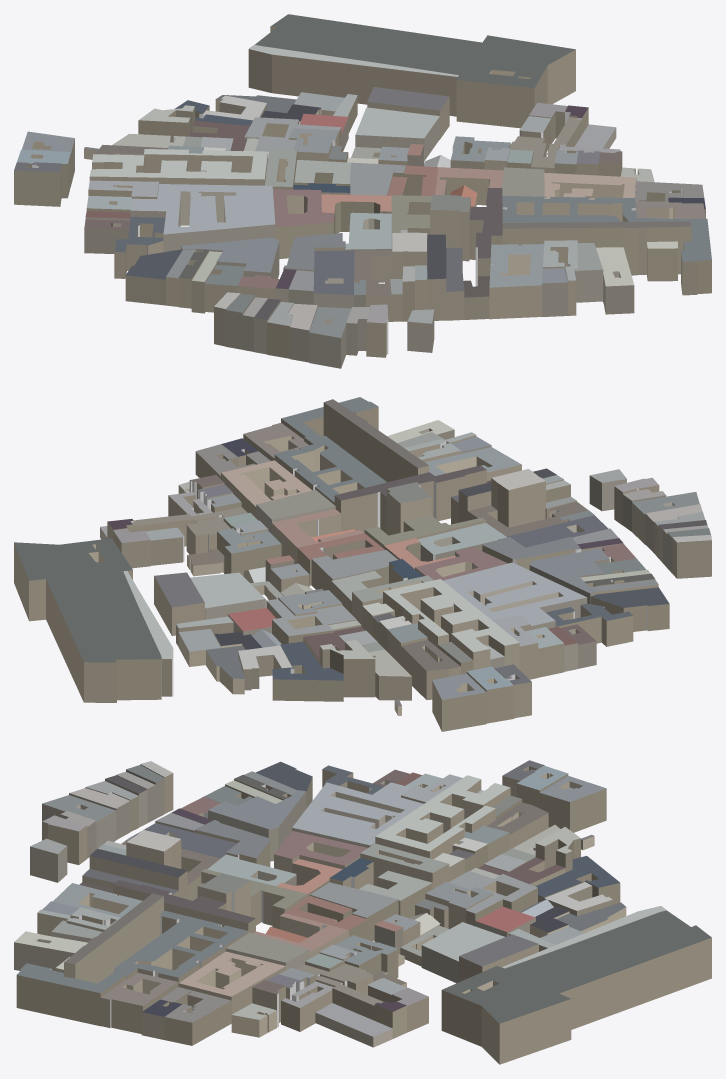
The picture shows the model from 3 angles, top to bottom: view 1: azimuth 30°, elevation 25°; view 2: azimuth 150°, elevation 25°; view 3: azimuth 270°, elevation 25°; orthographic projection. The views are drawn at different scales.
Parts seen in each view (by area): view 1: tuile; view 2: tuile; view 3: tuile.
Boxes of the visible parts, x1,y1,x2,y2 form: tuile: [14, 14, 711, 368]; tuile: [14, 397, 711, 731]; tuile: [14, 760, 711, 1064].
Size of the model in its own units: 290 by 30.1 by 318.
